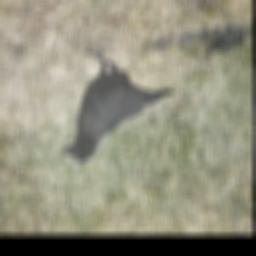Crow: (57, 50, 171, 166)
